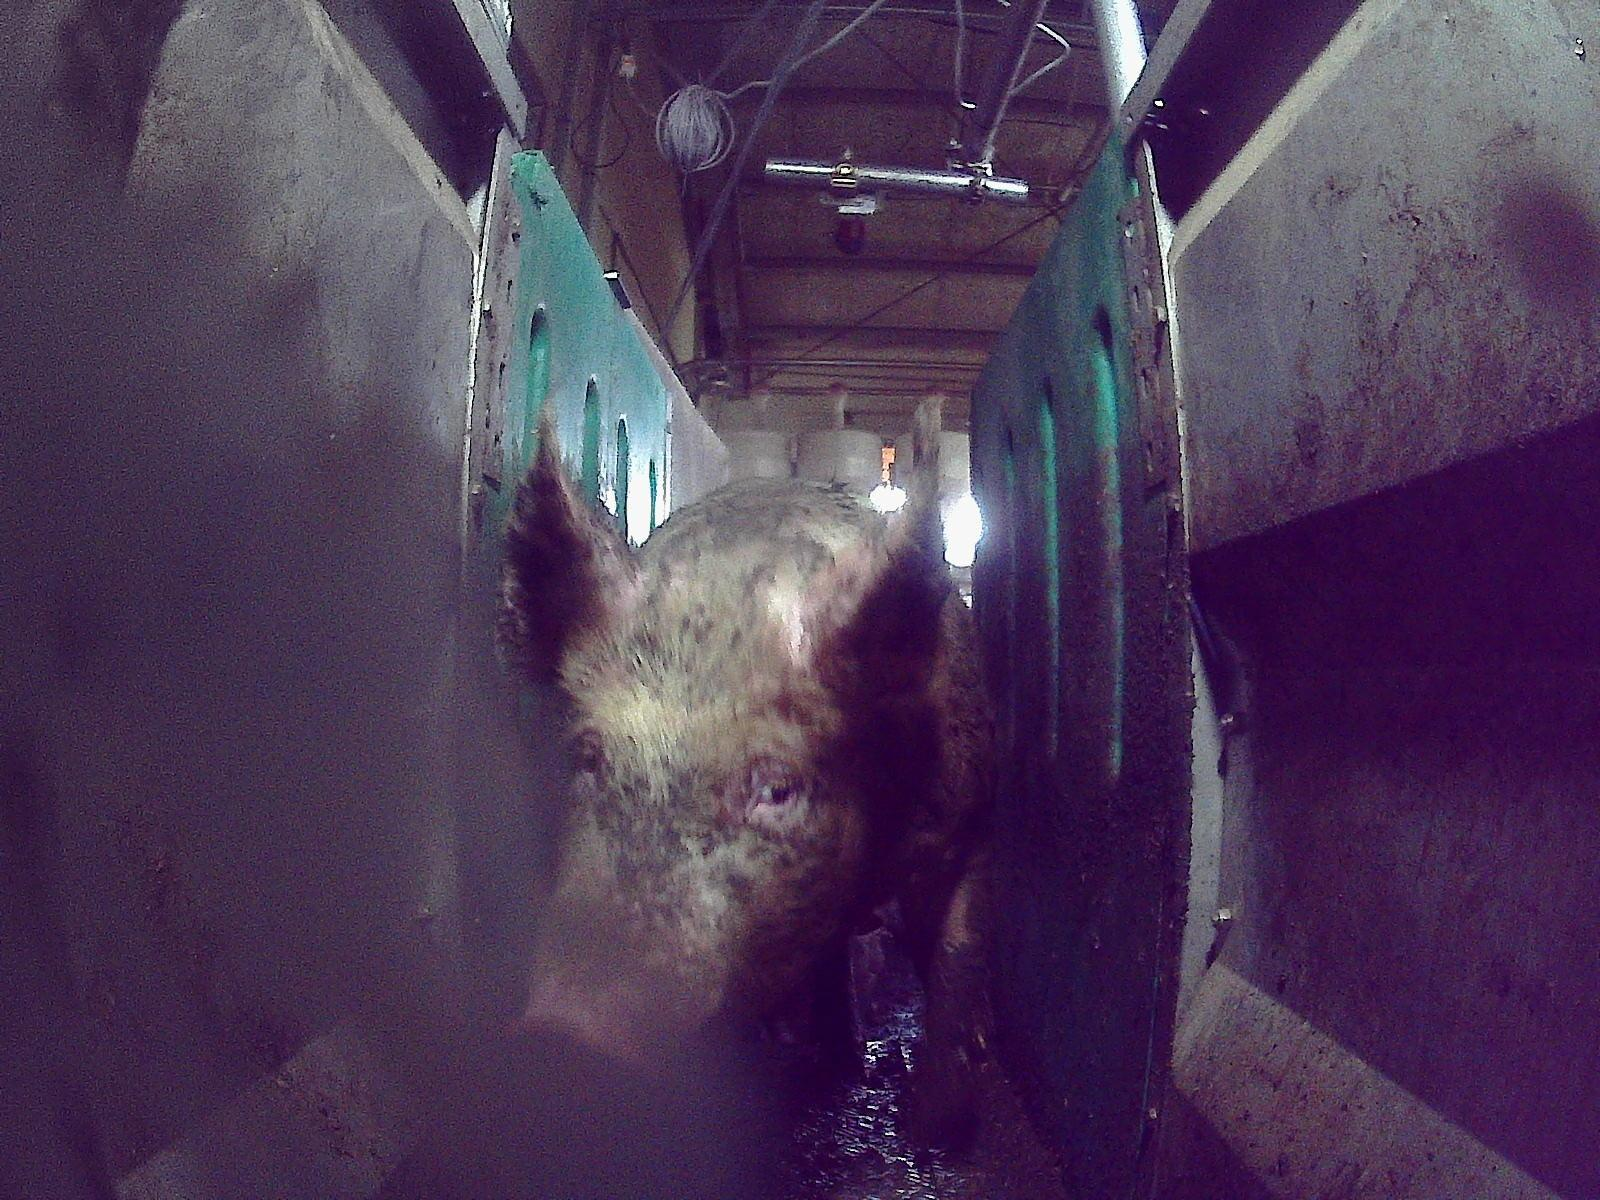Face: (516, 606, 850, 1098)
